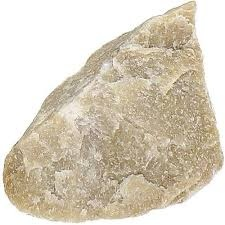obstacle: (4, 2, 221, 220)
